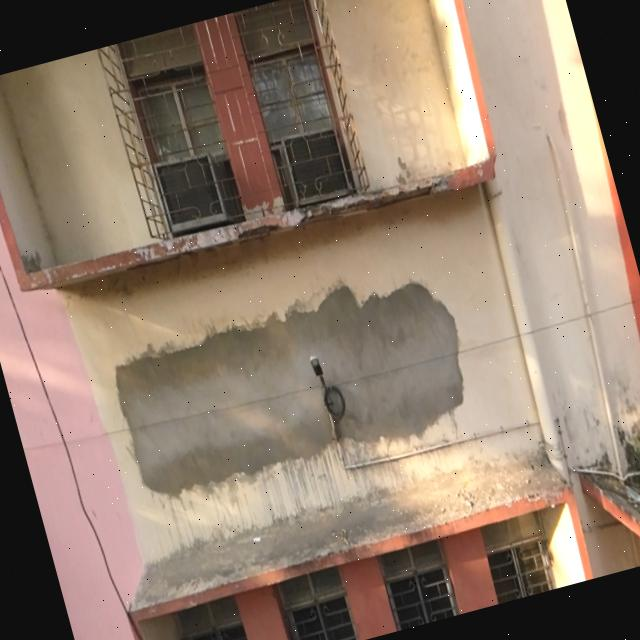Incomplete Plaster Work: (116, 283, 463, 494)
Scaling: (231, 174, 454, 241)
pollution -moisture induced blackening: (234, 174, 454, 240)
